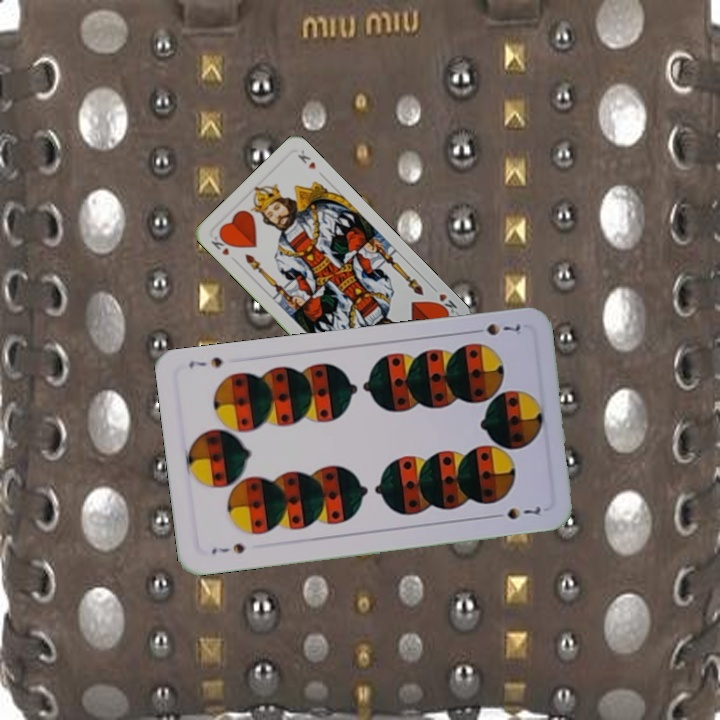HK: (427, 282, 460, 318), (207, 229, 235, 258)
S7: (467, 319, 526, 338), (207, 539, 248, 557)
